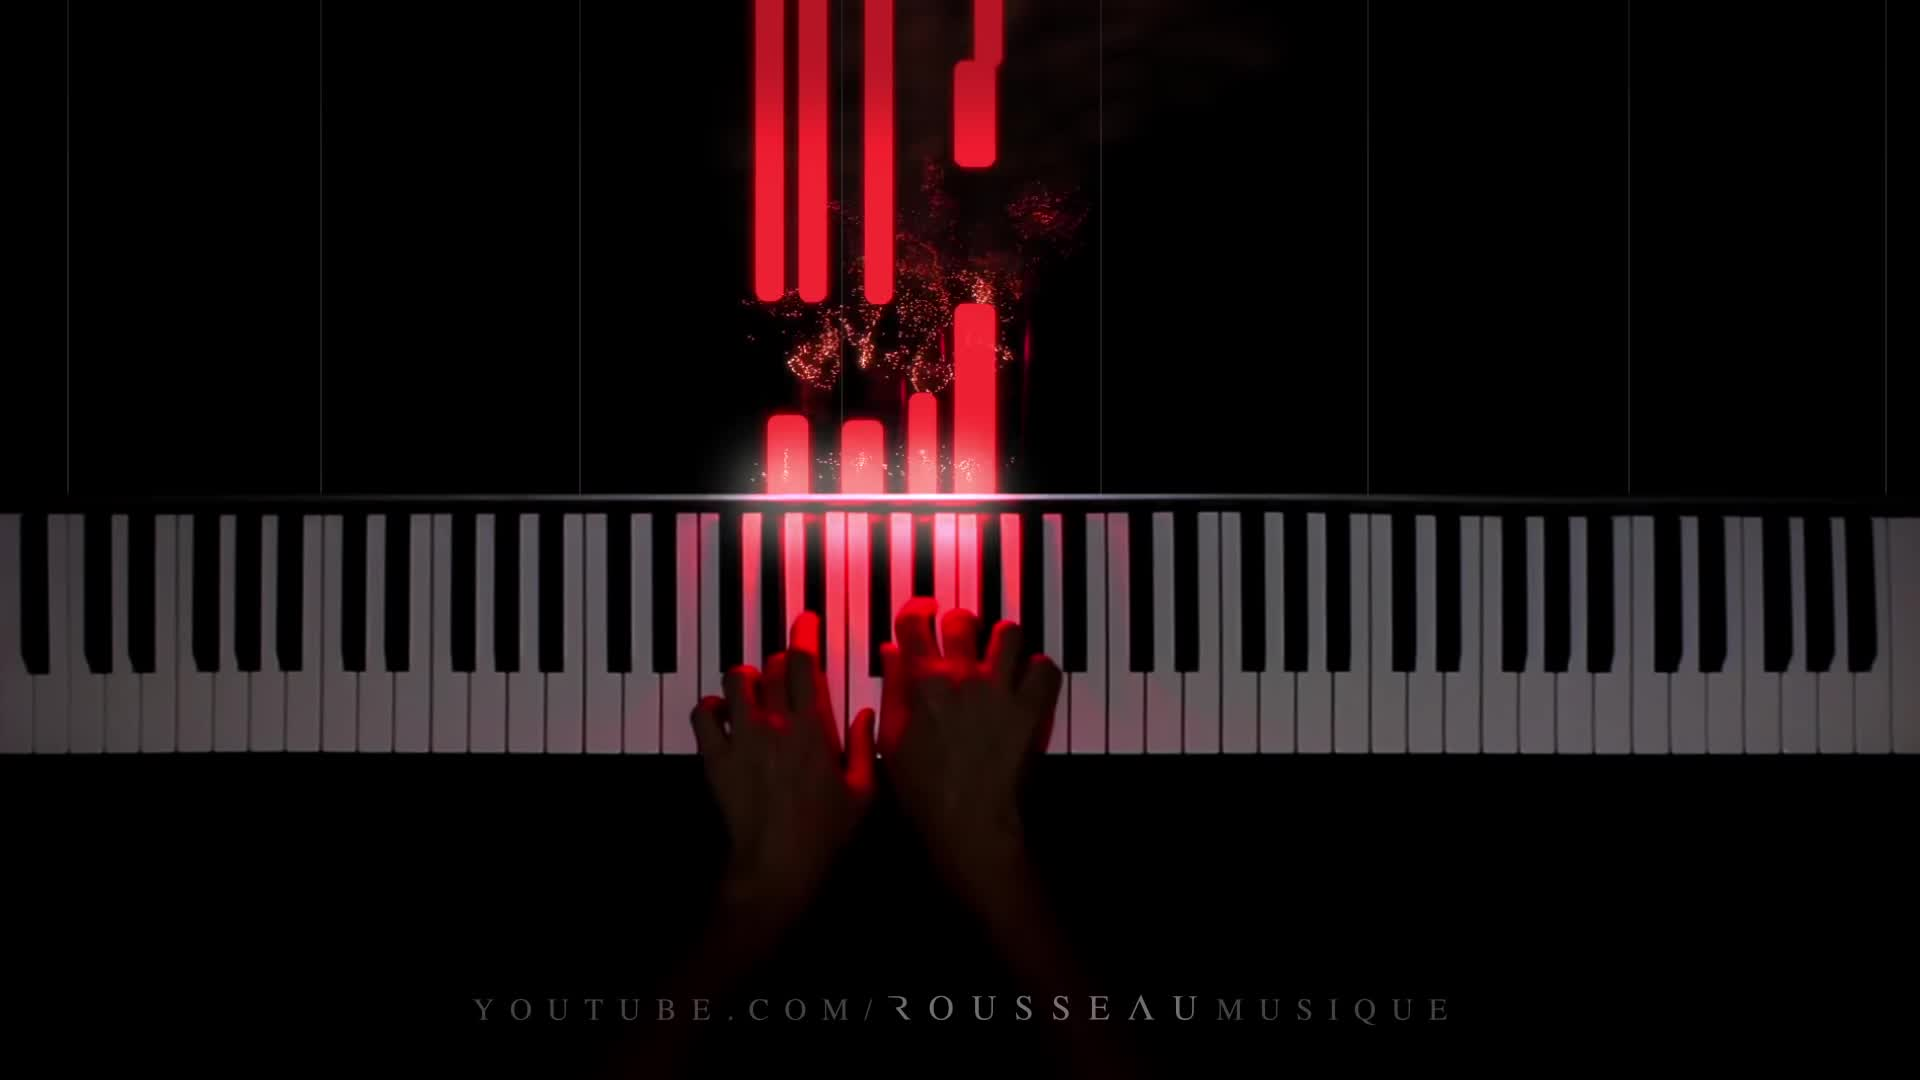left: (684, 608, 876, 868)
right: (868, 589, 1062, 862)
